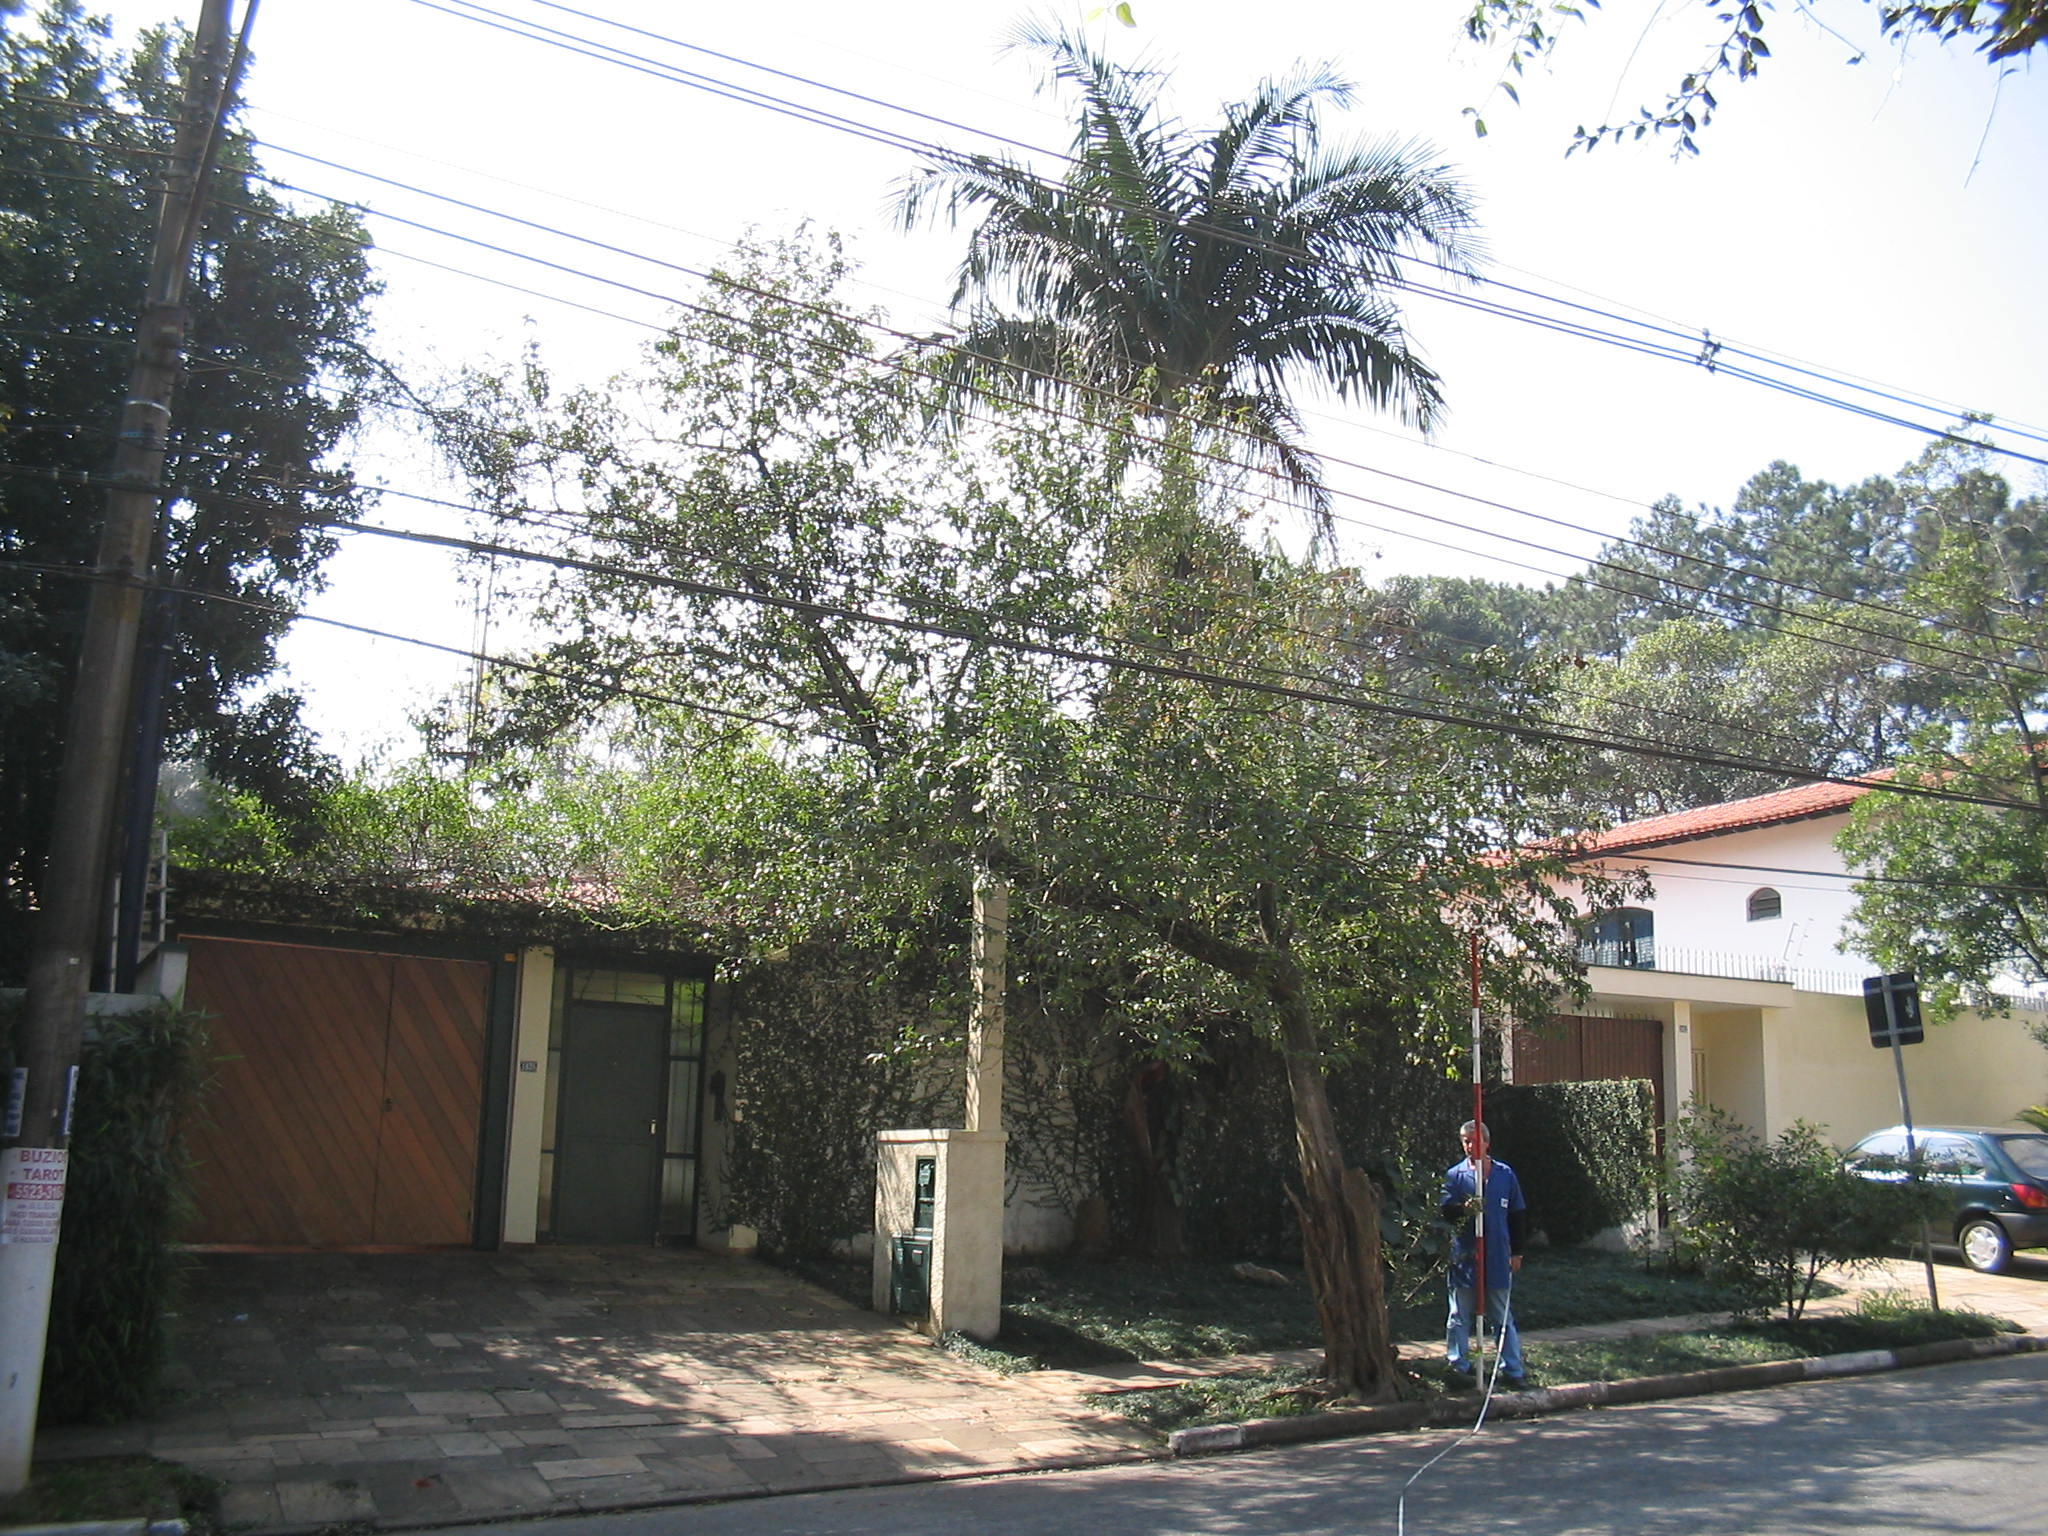crown: (340, 216, 1606, 999)
stem: (1230, 992, 1416, 1405)
stick: (1455, 936, 1496, 1400)
tree: (335, 210, 1608, 1405)
